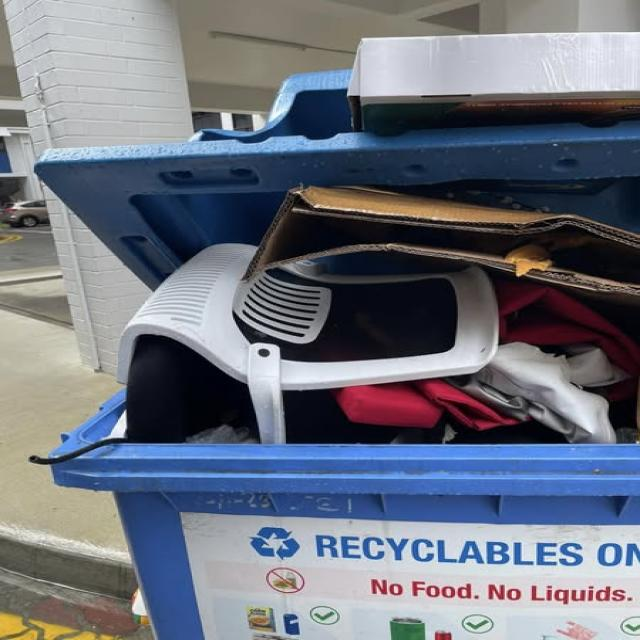bin_full: (32, 43, 628, 630)
bulk_waste: (108, 174, 554, 415), (345, 31, 633, 135)
